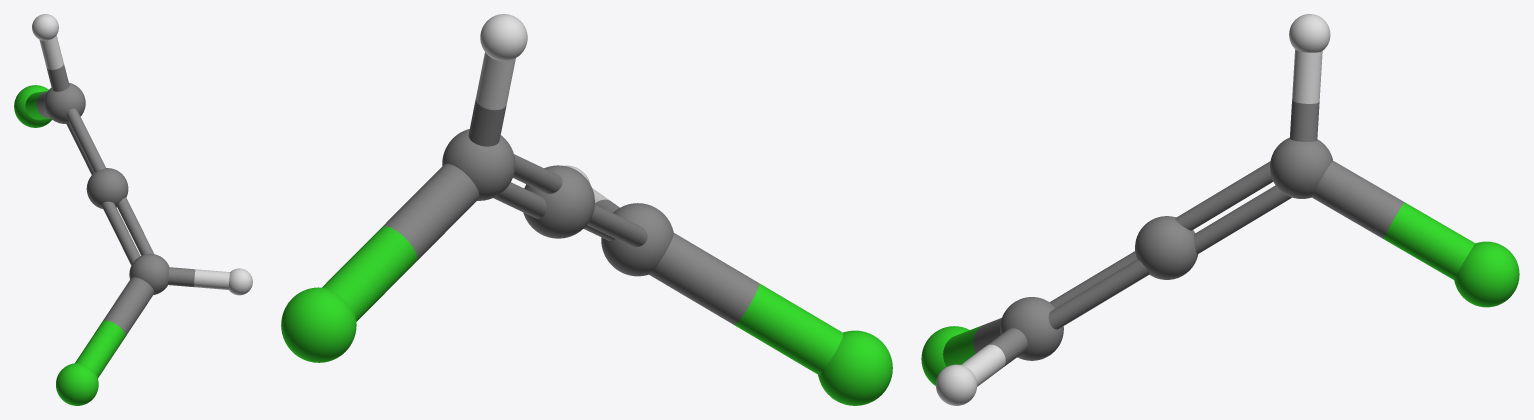
The model's file is R13DICHLOROPROPA12DIENE.MOL2.glb.
3 renders of one model, left to right at view 1: azimuth 30°, elevation 25°; view 2: azimuth 150°, elevation 25°; view 3: azimuth 270°, elevation 25°, orthographic. The views are drawn at different scales.
Bounding box in the file's own units: 2.73 × 3.83 × 4.77.
